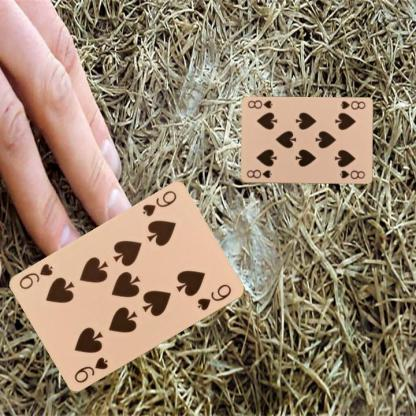8s: (244, 168, 273, 180), (338, 98, 366, 110)
9s: (139, 188, 178, 218), (71, 355, 109, 385)
